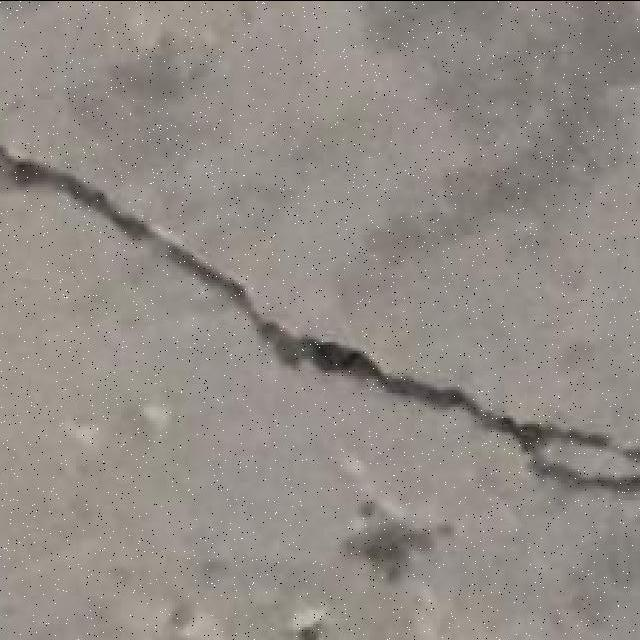crack: (1, 144, 637, 494), (6, 5, 639, 210), (12, 135, 316, 354), (7, 135, 170, 244)
